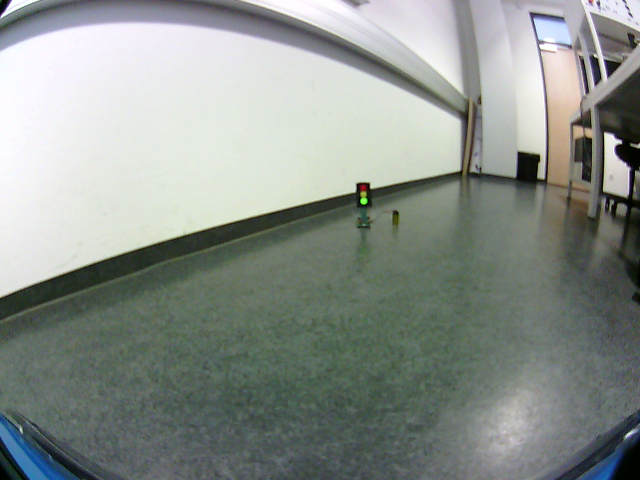green trafficlight: (357, 181, 370, 206)
